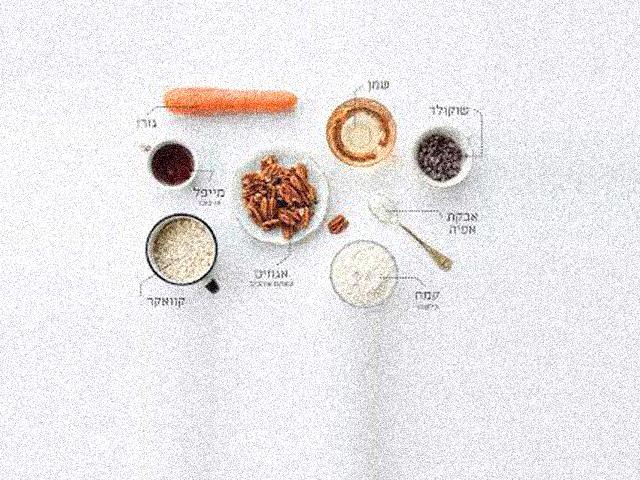carrot: (155, 82, 302, 127)
